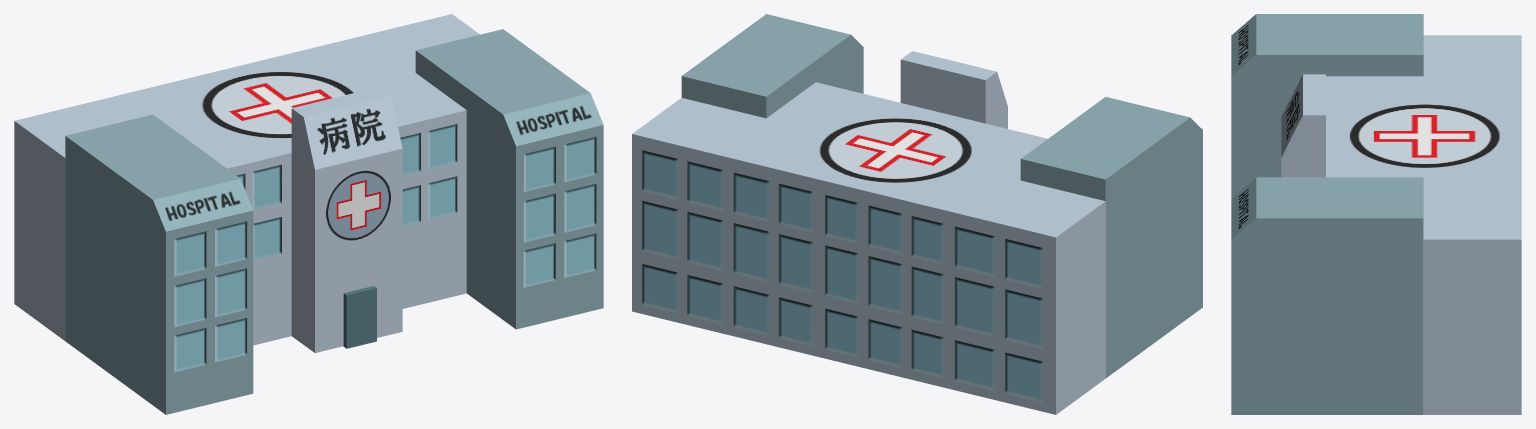
Rendered from Hospital.fbx.
The picture shows the model from 3 angles, left to right: view 1: azimuth 30°, elevation 25°; view 2: azimuth 150°, elevation 25°; view 3: azimuth 270°, elevation 25°; orthographic projection. The views are drawn at different scales.
Parts seen in each view (by area): view 1: Hospital; view 2: Hospital; view 3: Hospital.
Boxes of the visible parts, x1,y1,x2,y2 form: Hospital: (14,14,603,414); Hospital: (632,14,1202,414); Hospital: (1231,14,1521,414).
Bounding box in the file's own units: 1000 × 498 × 600.
1 material, 1 textured.
